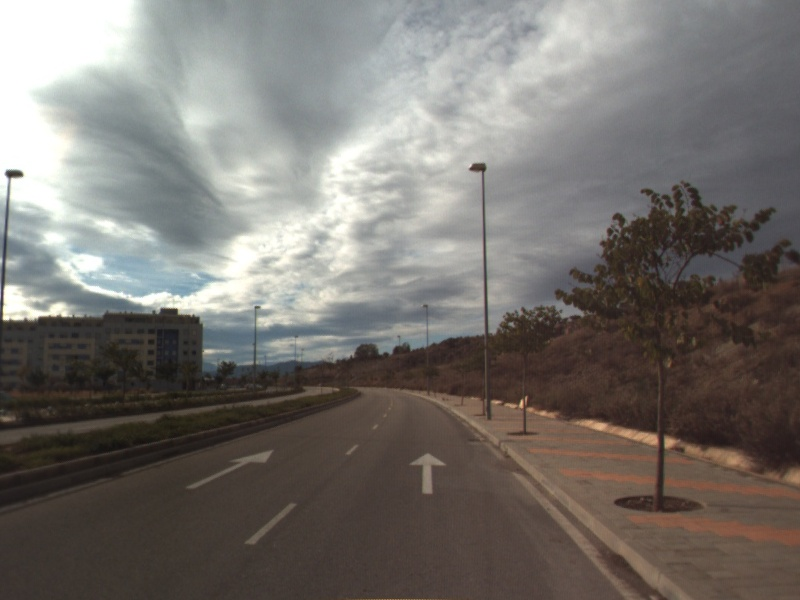STRAIGHT: (183, 448, 276, 491), (407, 450, 449, 496)
